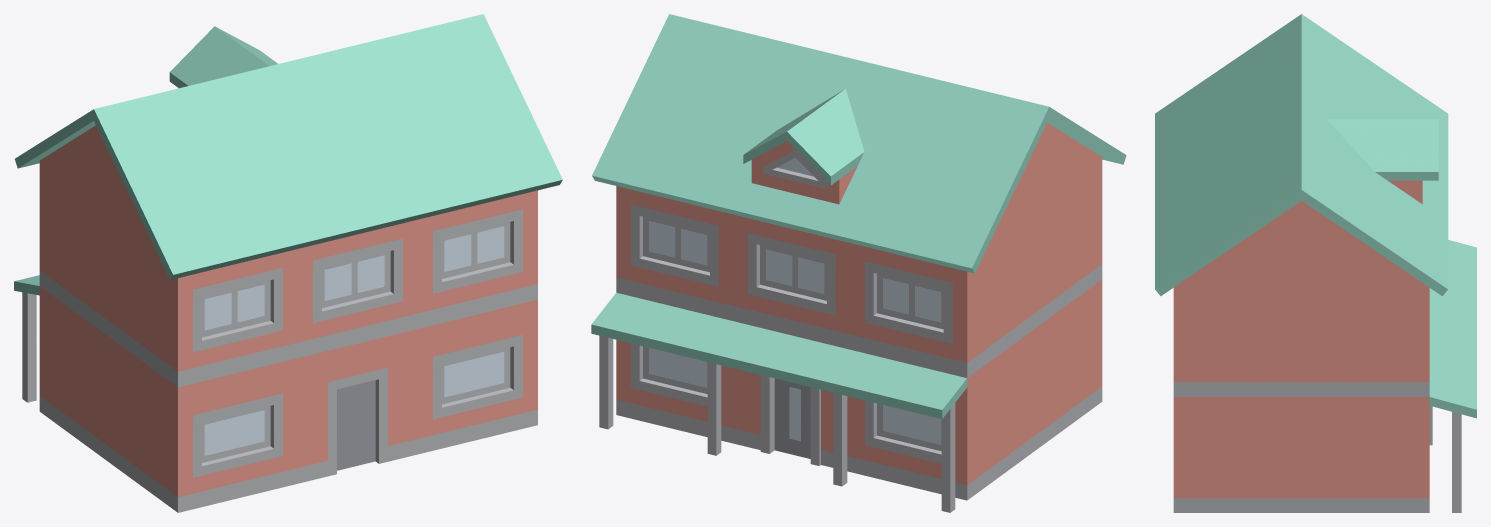
Rendered from house-suburban-a.glb.
3 renders of one model, left to right at view 1: azimuth 30°, elevation 25°; view 2: azimuth 150°, elevation 25°; view 3: azimuth 270°, elevation 25°, orthographic. The views are drawn at different scales.
Visible parts, largest first — view 1: house_type12; view 2: house_type12; view 3: house_type12.
Boxes of the visible parts, x1,y1,x2,y2 form: house_type12: (14,14,562,512); house_type12: (591,14,1126,512); house_type12: (1155,14,1476,512).
Size of the model in its own units: 1.3 by 1.14 by 1.01.
1 material, 1 textured.
